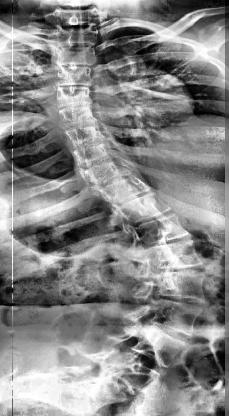Vertebrae: (144, 302, 208, 334), (156, 274, 214, 302), (150, 242, 206, 270), (80, 160, 133, 188), (120, 194, 174, 221), (140, 215, 190, 243), (102, 176, 152, 204), (70, 142, 128, 166), (61, 122, 108, 146), (54, 26, 102, 48), (52, 7, 102, 26), (51, 87, 95, 107), (56, 44, 94, 66), (57, 105, 98, 125), (55, 64, 92, 86)
